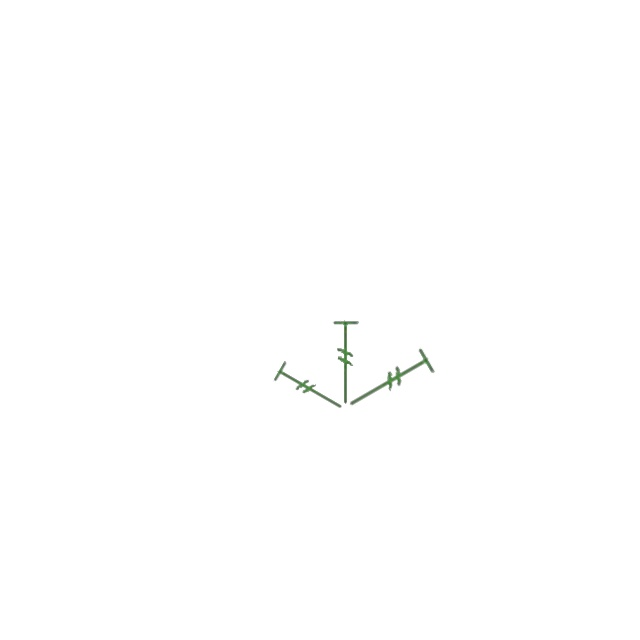fan: (337, 343, 440, 423), (270, 356, 353, 420), (330, 317, 362, 408)
